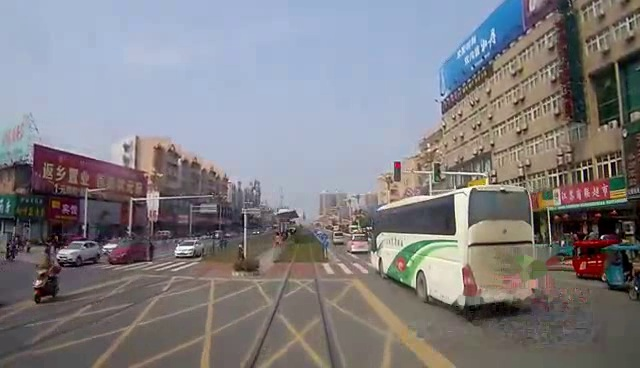bus: (371, 188, 535, 312)
car: (110, 234, 156, 267), (54, 239, 103, 267)
motorcycle: (30, 254, 67, 303)
